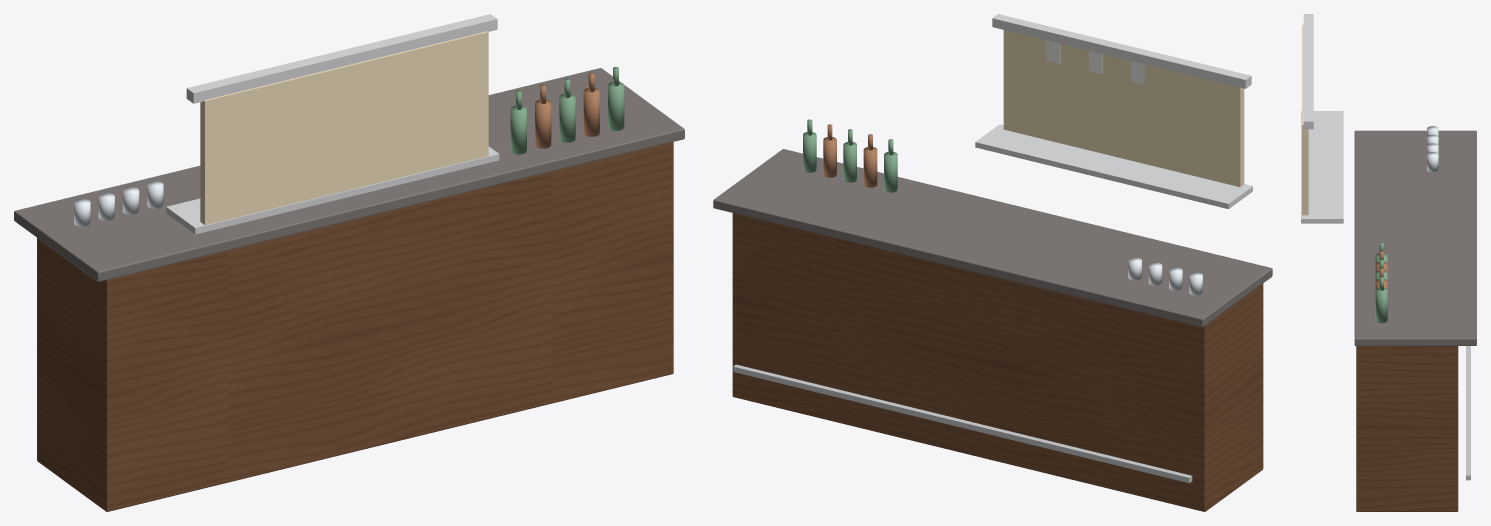
The model's file is restoran.barra.fbx.
The picture shows the model from 3 angles, left to right: view 1: azimuth 30°, elevation 25°; view 2: azimuth 150°, elevation 25°; view 3: azimuth 270°, elevation 25°; orthographic projection. The views are drawn at different scales.
Parts seen in each view (by area): view 1: Barra, Ventanilla, Cubierta de la barra, Marco ventanilla, Repisa ventanilla, Botella.003, Botella.004, Botella.001, Botella.002, Botella; view 2: Barra, Cubierta de la barra, Ventanilla, Repisa ventanilla, Apoyapies, Marco ventanilla; view 3: Cubierta de la barra, Barra, Repisa ventanilla, Marco ventanilla, Ventanilla, Apoyapies, Botella, Vaso.
Boxes of the visible parts, x1,y1,x2,y2 form: Barra: [37, 142, 673, 511]; Ventanilla: [200, 31, 488, 225]; Cubierta de la barra: [14, 68, 684, 281]; Marco ventanilla: [186, 14, 497, 103]; Repisa ventanilla: [166, 146, 499, 234]; Botella.003: [535, 99, 551, 148]; Botella.004: [510, 105, 526, 154]; Botella.001: [583, 88, 599, 136]; Botella.002: [559, 94, 575, 142]; Botella: [608, 82, 624, 130]; Barra: [732, 213, 1263, 511]; Cubierta de la barra: [713, 149, 1272, 327]; Ventanilla: [1003, 30, 1244, 186]; Repisa ventanilla: [975, 124, 1252, 209]; Apoyapies: [733, 364, 1192, 483]; Marco ventanilla: [992, 14, 1251, 88]; Cubierta de la barra: [1354, 130, 1476, 345]; Barra: [1356, 346, 1458, 511]; Repisa ventanilla: [1301, 111, 1343, 223]; Marco ventanilla: [1303, 14, 1313, 129]; Ventanilla: [1302, 24, 1308, 215]; Apoyapies: [1466, 346, 1470, 480]; Botella: [1375, 287, 1387, 323]; Vaso: [1427, 152, 1438, 172].
Bounding box in the file's own units: 2.9 × 2.04 × 1.04.
15 materials, 1 textured.
